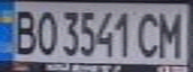1: (112, 8, 136, 57)
3: (57, 7, 81, 57)
4: (93, 7, 118, 57)
5: (78, 7, 100, 57)
B: (6, 6, 39, 56)
C: (136, 8, 163, 59)
M: (154, 8, 187, 59)
O: (33, 7, 57, 56)
